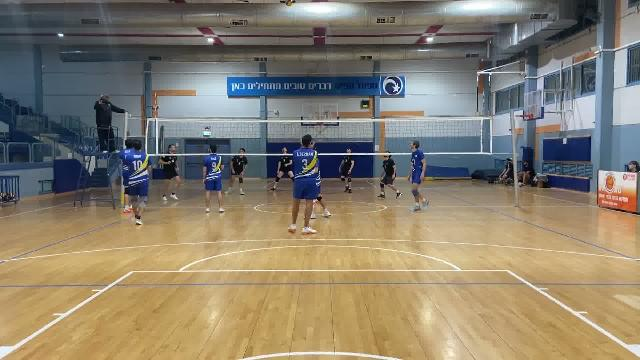ball: (283, 0, 297, 8)
